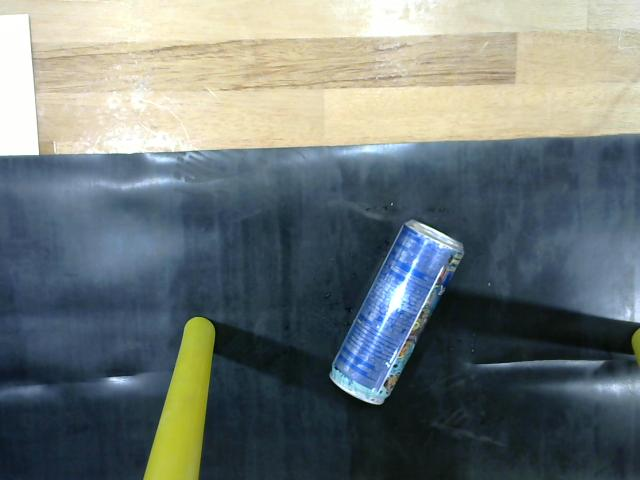can: (323, 211, 479, 416)
